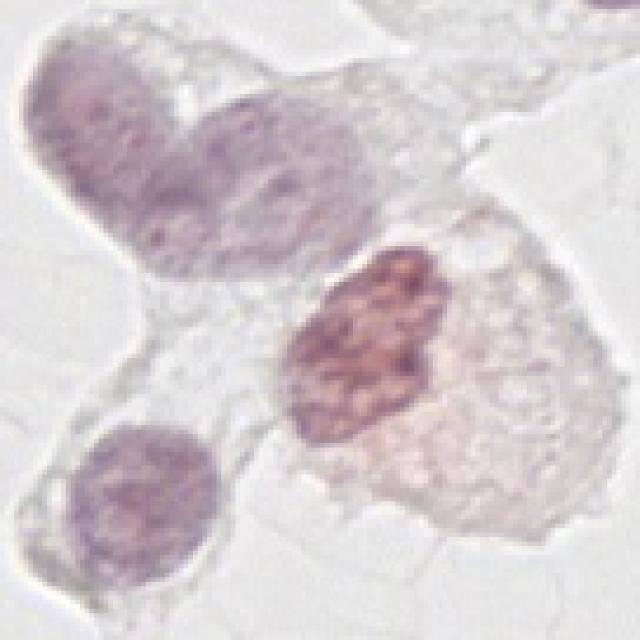nucleus: (241, 228, 500, 470)
